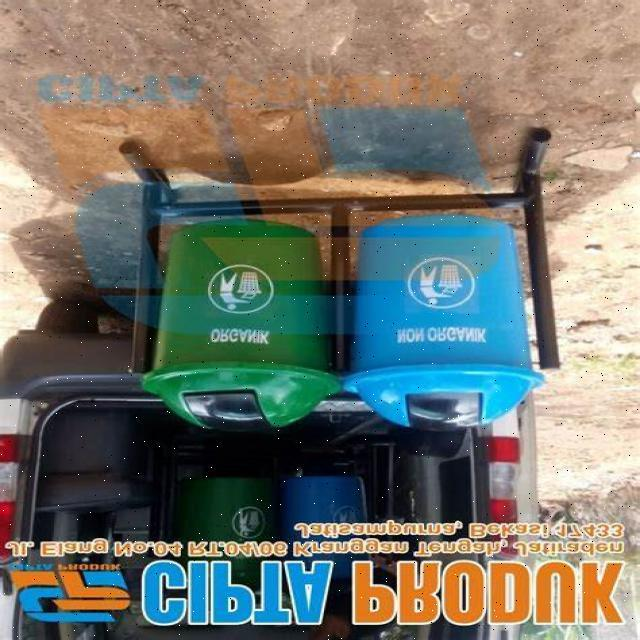garbage container: (346, 184, 618, 435), (134, 202, 342, 447)
